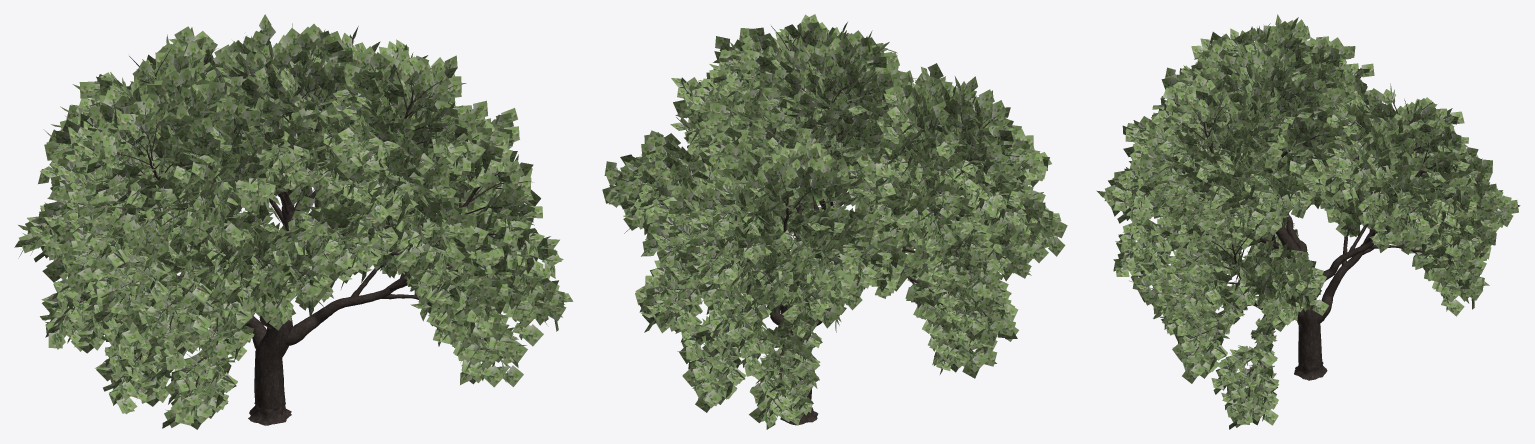
Rendered from FBX_WE17_QuercusAgrifolia_3.fbx.
3 views of the same model, side by side, from view 1: azimuth 30°, elevation 25°; view 2: azimuth 150°, elevation 25°; view 3: azimuth 270°, elevation 25° (orthographic). The views are drawn at different scales.
Visible parts, largest first — view 1: Leaf01_3, Bark01_3; view 2: Leaf01_3, Bark01_3; view 3: Leaf01_3, Bark01_3.
Boxes of the visible parts, bbox=[...] form: Leaf01_3: bbox=[14, 14, 573, 429]; Bark01_3: bbox=[22, 38, 546, 425]; Leaf01_3: bbox=[602, 14, 1067, 429]; Bark01_3: bbox=[618, 26, 1033, 425]; Leaf01_3: bbox=[1096, 14, 1520, 429]; Bark01_3: bbox=[1121, 28, 1501, 413].
Bounding box in the file's own units: 2628 × 2113 × 2544.
